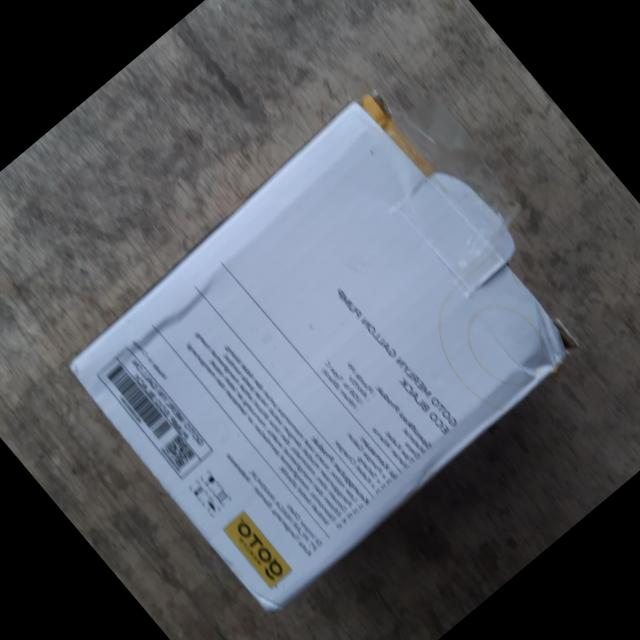Kardus: (48, 72, 604, 618)
